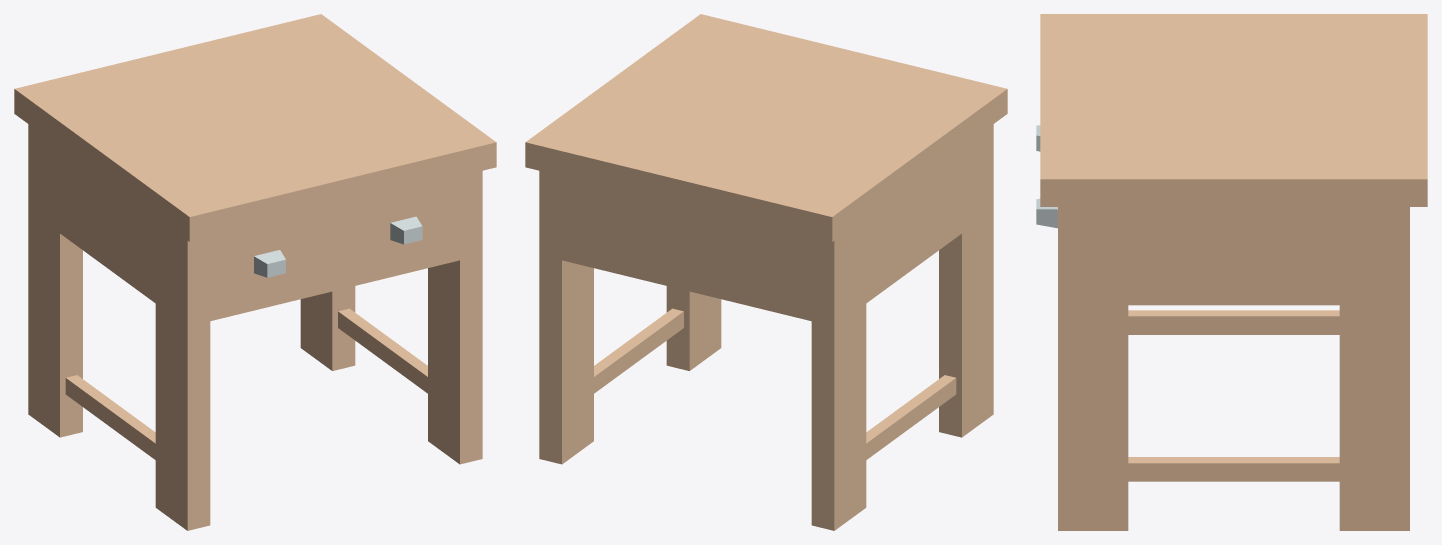
File: kn-side-table-drawers.glb
3 views of the same model, side by side, from view 1: azimuth 30°, elevation 25°; view 2: azimuth 150°, elevation 25°; view 3: azimuth 270°, elevation 25° (orthographic). The views are drawn at different scales.
Parts seen in each view (by area): view 1: sideTableDrawers(Clone), drawerLeft; view 2: sideTableDrawers(Clone); view 3: sideTableDrawers(Clone), drawerLeft.
Boxes of the visible parts, left/top/right/bottom form: sideTableDrawers(Clone): left=14, top=14, right=496, bottom=530; drawerLeft: left=254, top=216, right=422, bottom=277; sideTableDrawers(Clone): left=525, top=14, right=1007, bottom=530; sideTableDrawers(Clone): left=1040, top=14, right=1427, bottom=530; drawerLeft: left=1036, top=125, right=1057, bottom=228.
Size of the model in its own units: 1 by 1 by 1.
